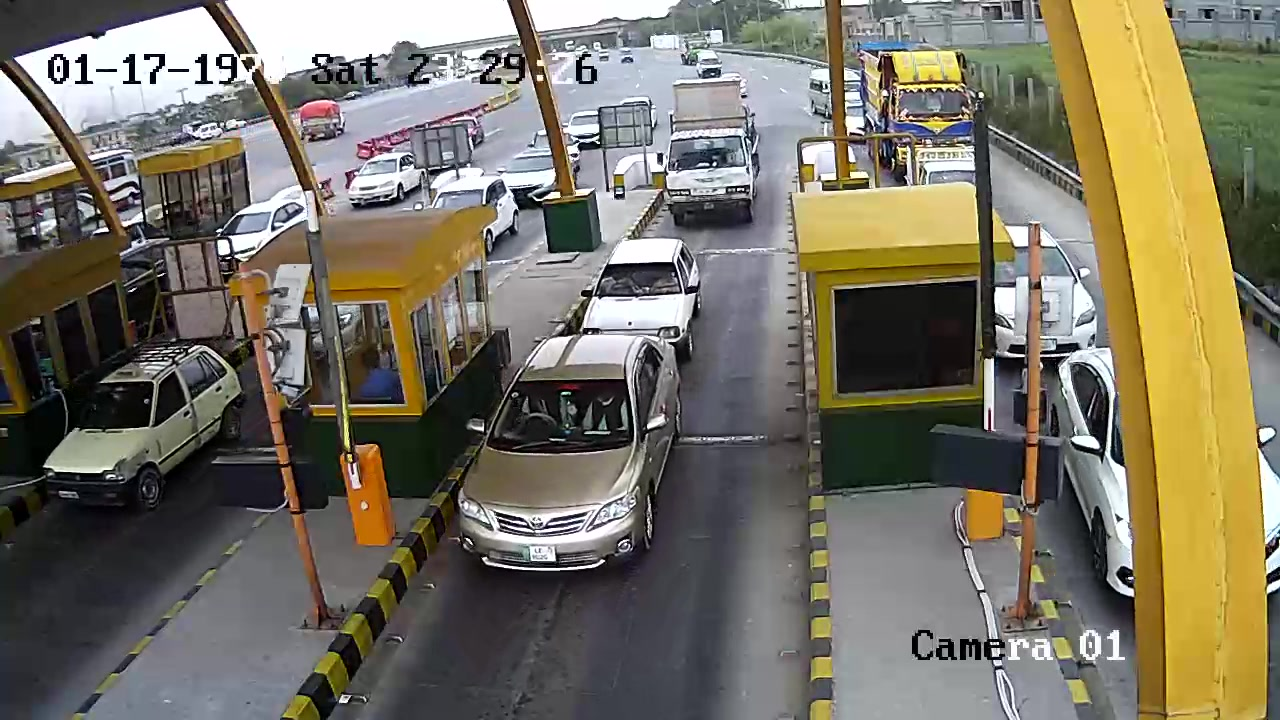F1: (460, 329, 692, 573)
